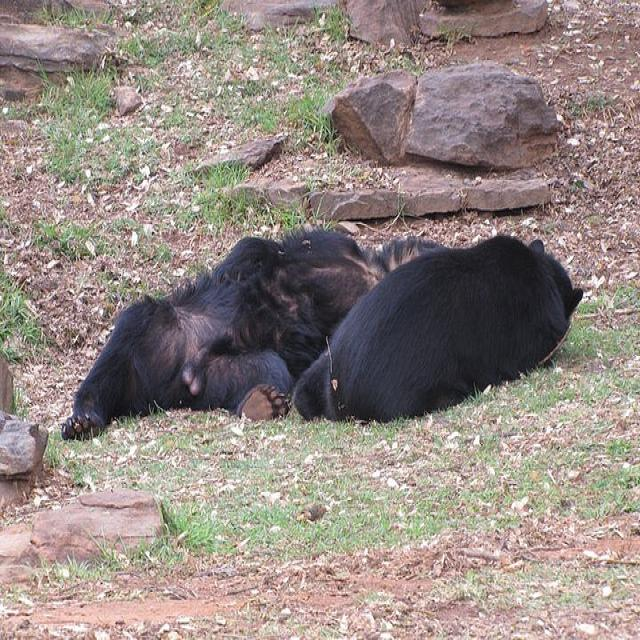Bear: (62, 219, 456, 436), (293, 222, 596, 430)
